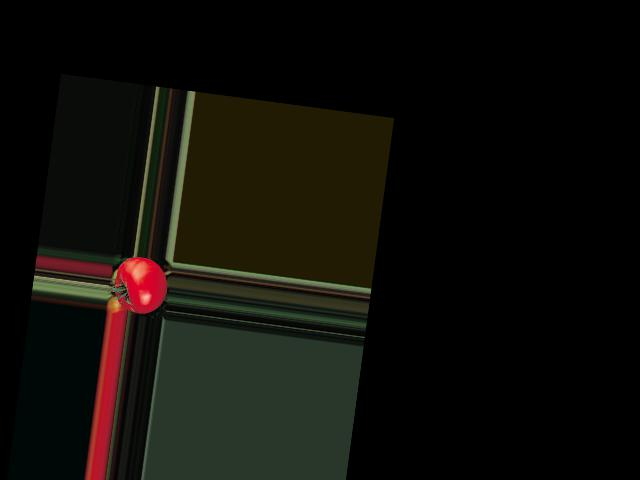tomato: (111, 254, 171, 315)
